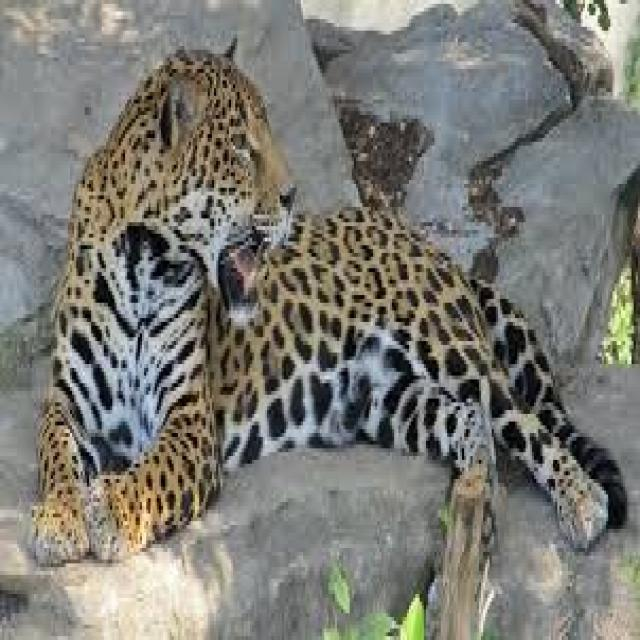Jaguar: (34, 42, 631, 567)
